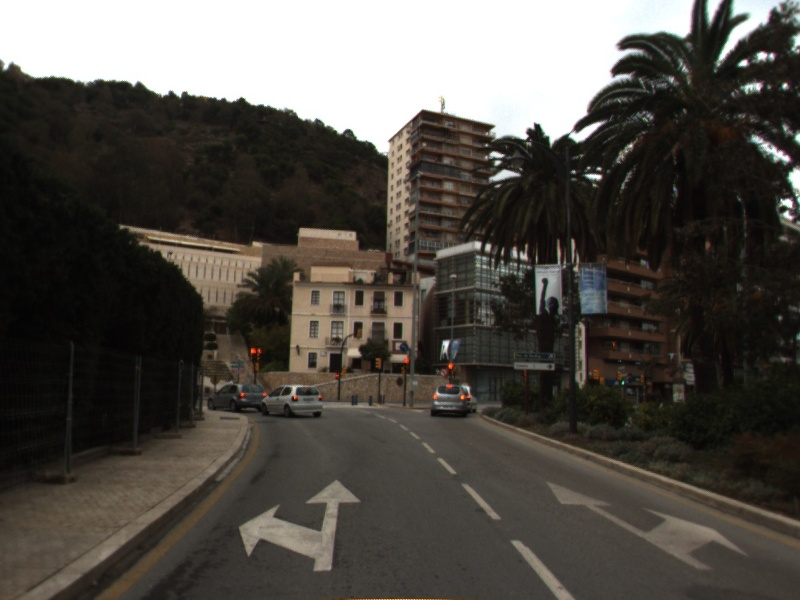STRAIGHT_LEFT: (237, 478, 363, 573)
STRAIGHT_RIGHT: (544, 479, 750, 571)
